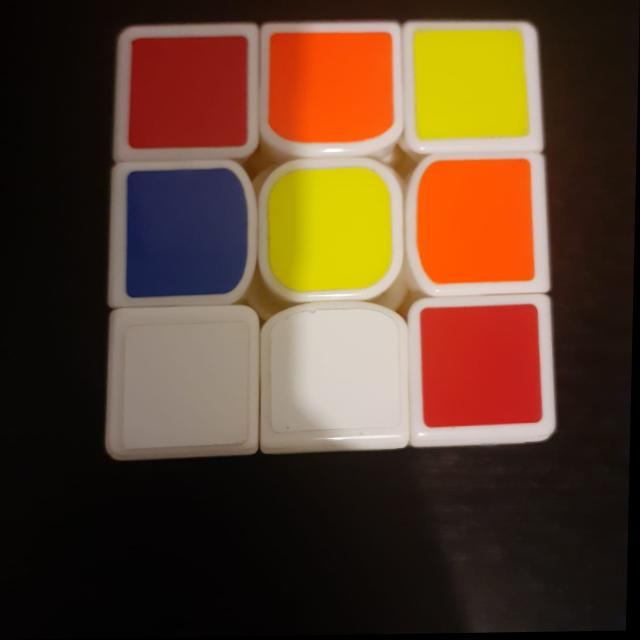Blue: (115, 159, 255, 302)
Orange: (413, 159, 537, 300), (269, 27, 399, 153)
Red: (118, 30, 258, 157), (416, 304, 547, 439)
White: (110, 313, 258, 458), (269, 311, 406, 445)
Yellow: (262, 164, 398, 296), (403, 29, 539, 148)
